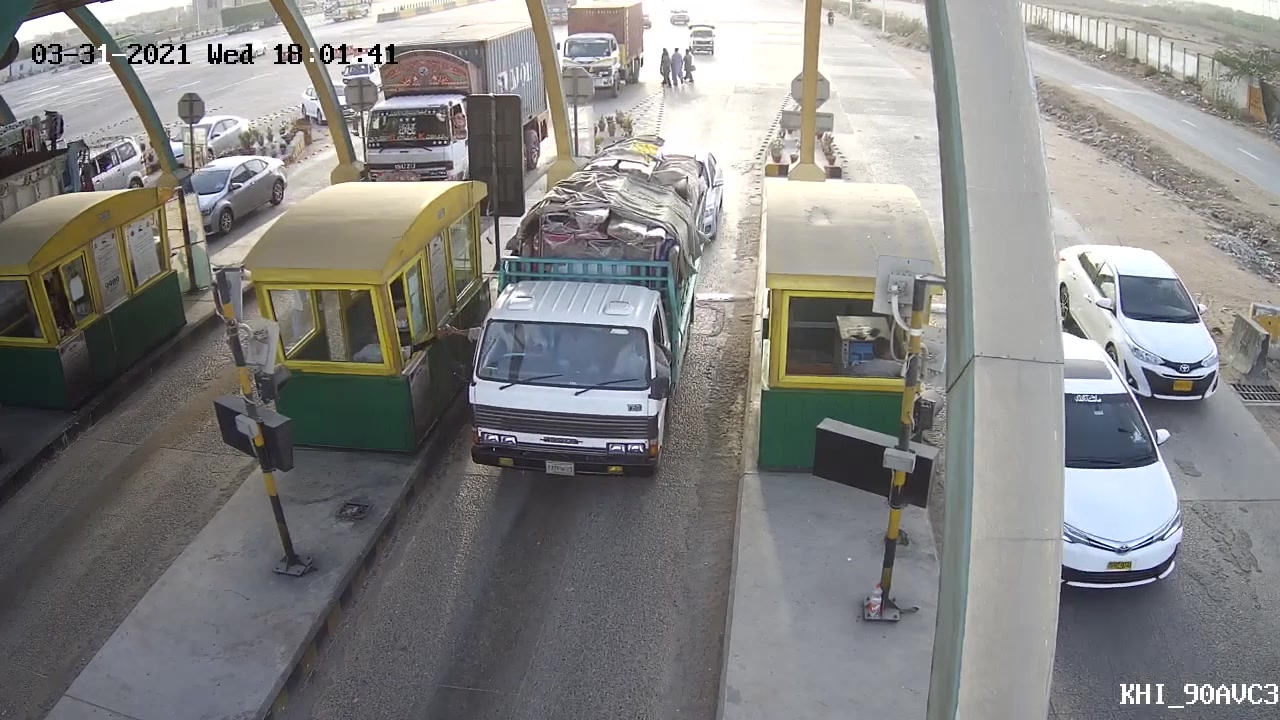F3: (442, 154, 717, 493)
